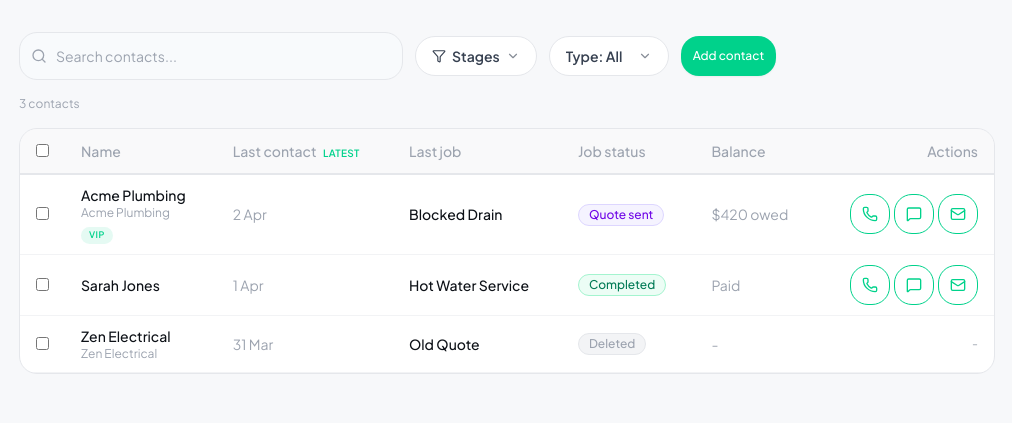
Test: ContactsClient › drops hidden selections when filters change so bulk actions stay truthful
The width and height of the screenshot is (1012, 423).
Expected: the table is shown, [20,129,994,373]
Click the checkbox in the row of "2 Apr".
click(42, 214)  # box [36,207,49,220]
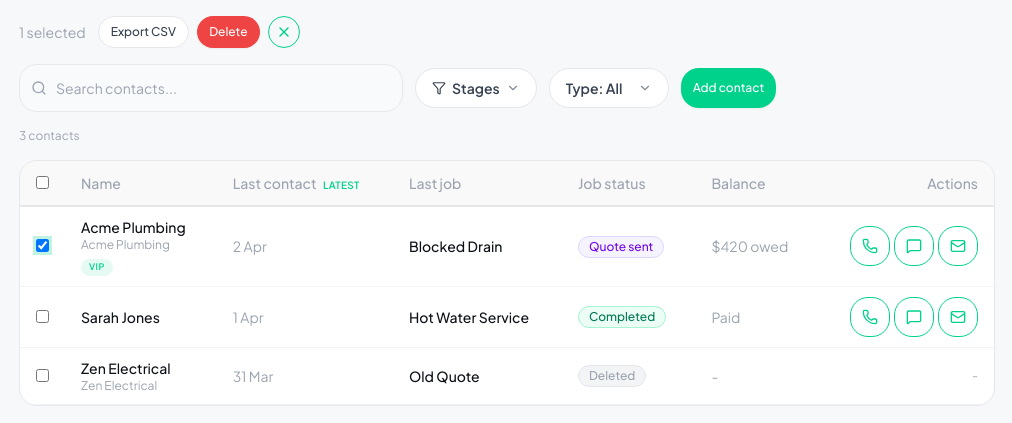
Result: the text "1 selected" is shown at [19,22,86,42]
Type "sarah" into the field with placeholder "Search contacts...".
click(211, 88); type("sarah")  # box [19,64,403,112]
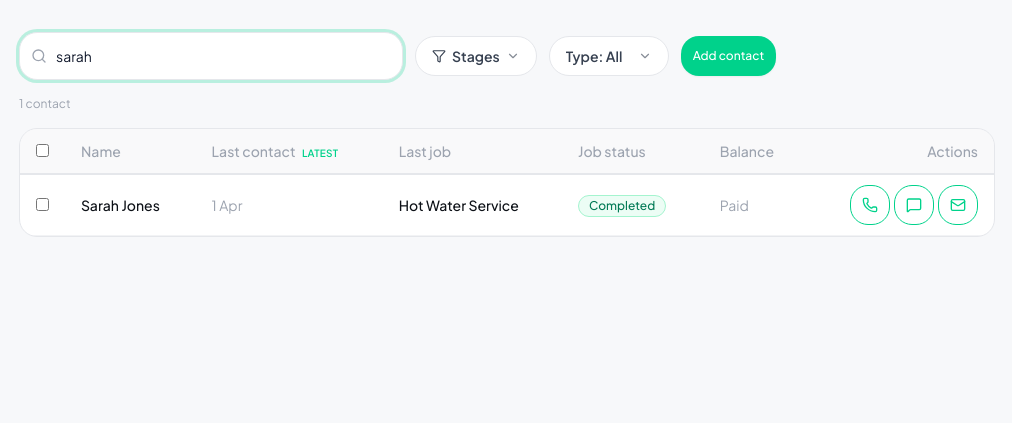
Result: the text "1 selected" is gone
Result: the button "Delete" is gone
